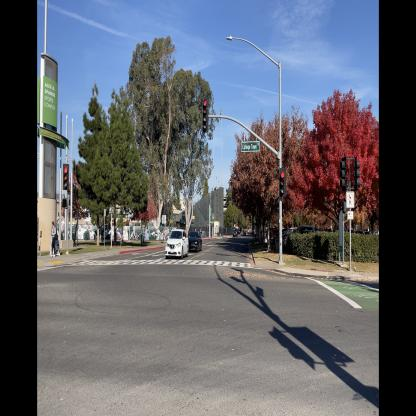red: (201, 95, 209, 135), (278, 166, 287, 201), (62, 161, 70, 193)
